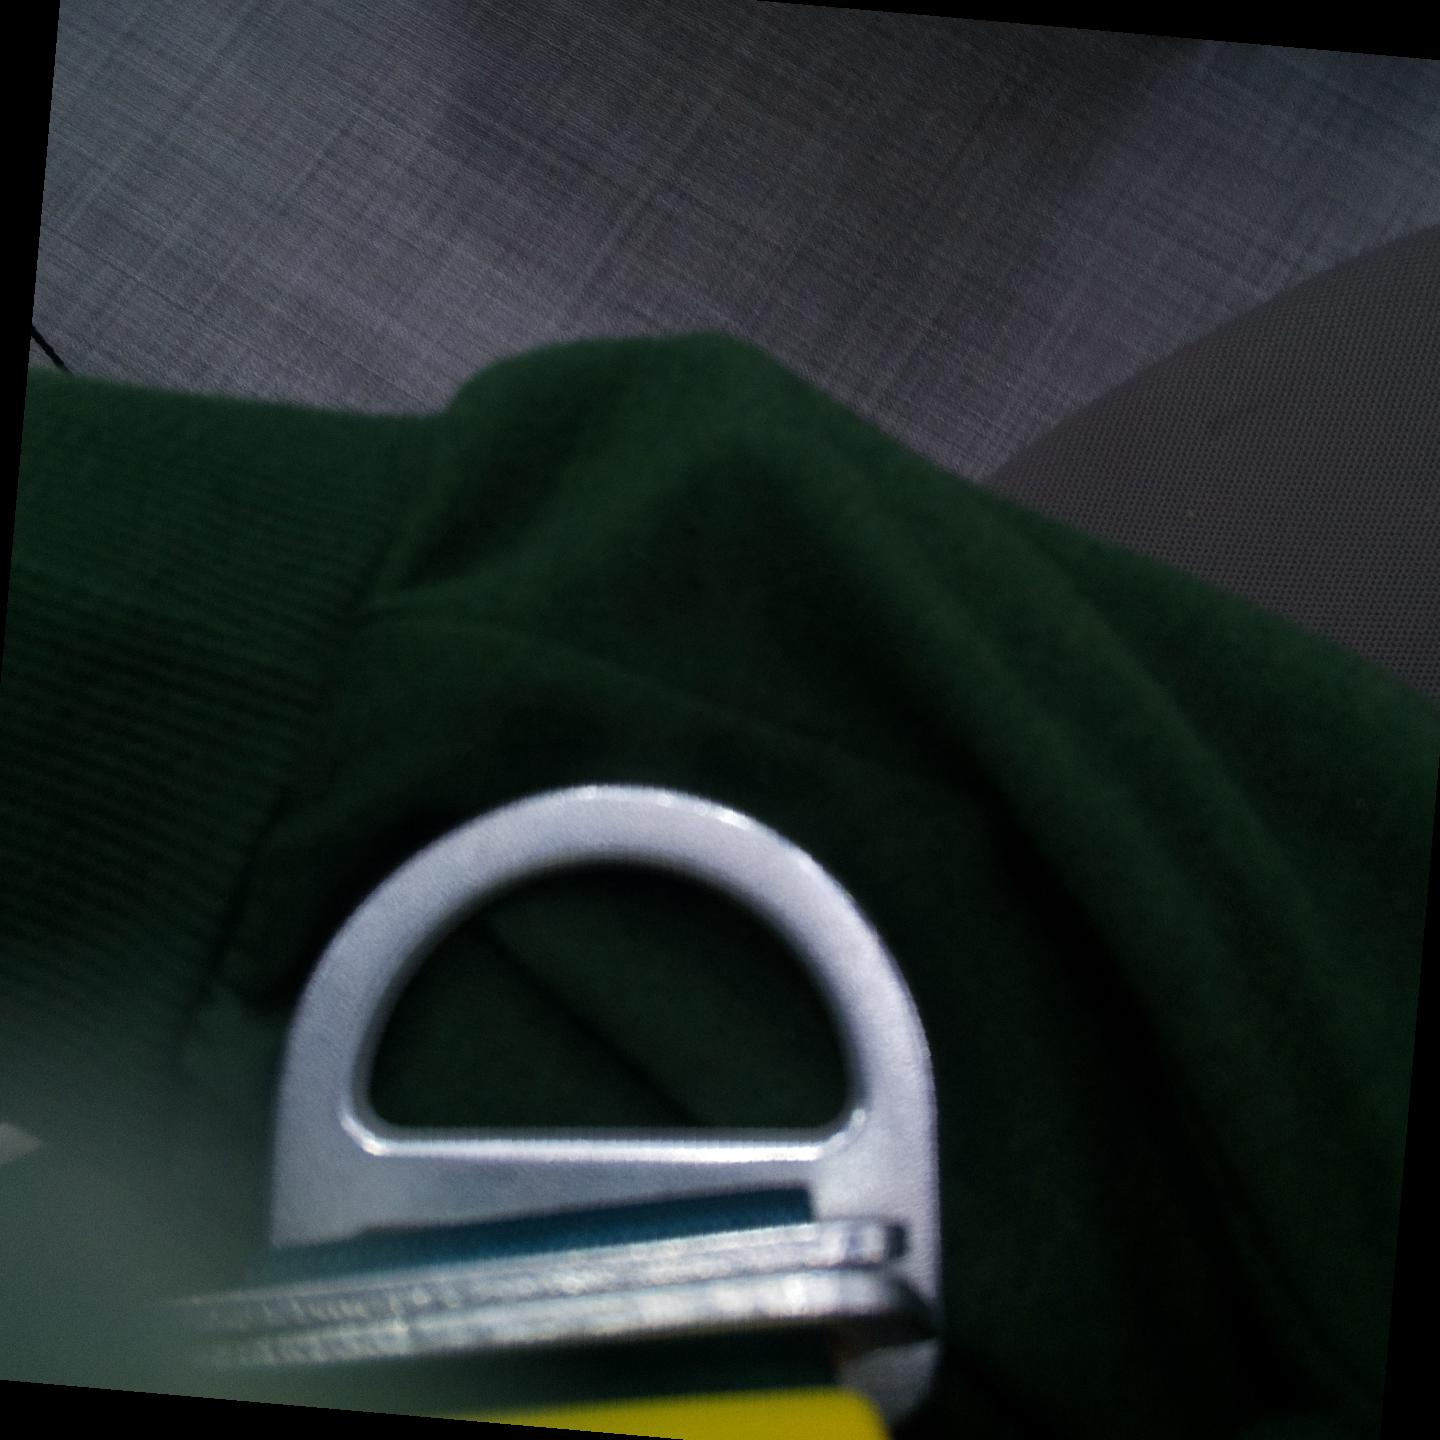UNSUCCESS: (261, 787, 943, 1212)
